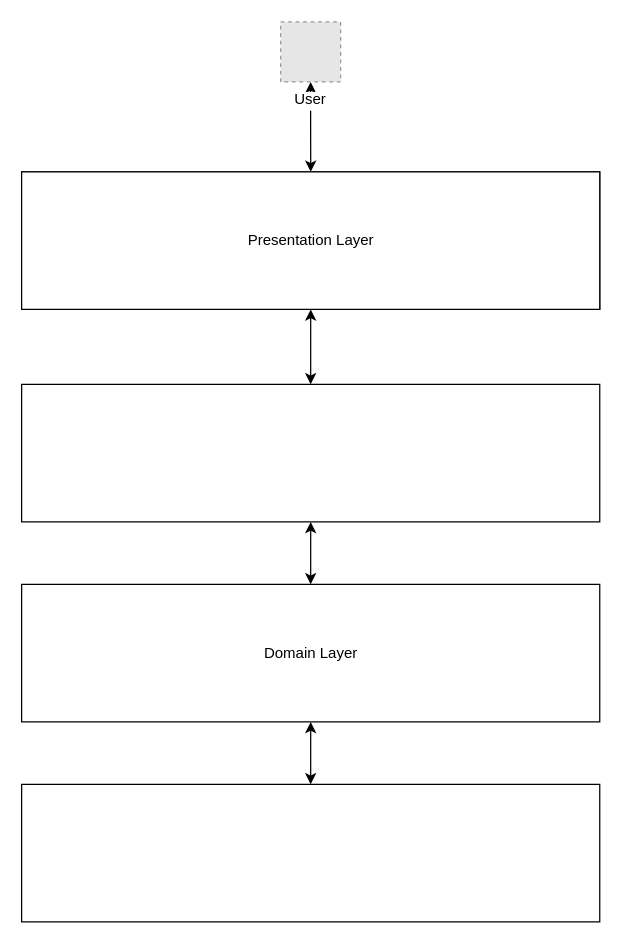
Image size: 623x944. Some labels were removed from this diagram. Grey dashed boxes stand in for pictures. The centre of each missing label's shape, as x and y in pixels:
Application Layer: the point at 310,452
Infrastructure Layer: the point at 310,852
